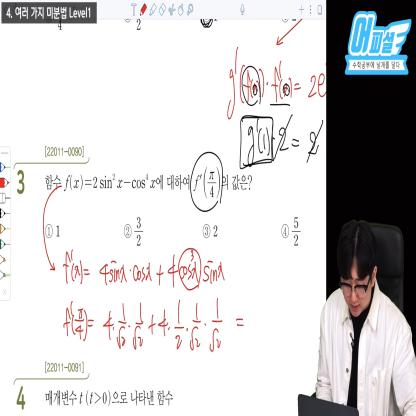streamer: (316, 219, 416, 416)
